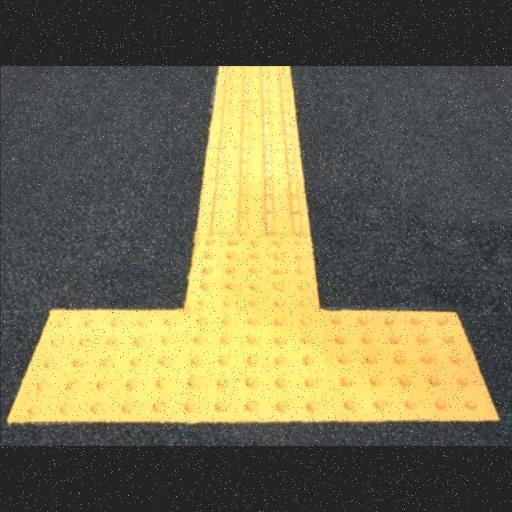dot: (4, 307, 186, 425), (325, 309, 502, 420), (179, 306, 338, 422), (185, 232, 320, 311)
